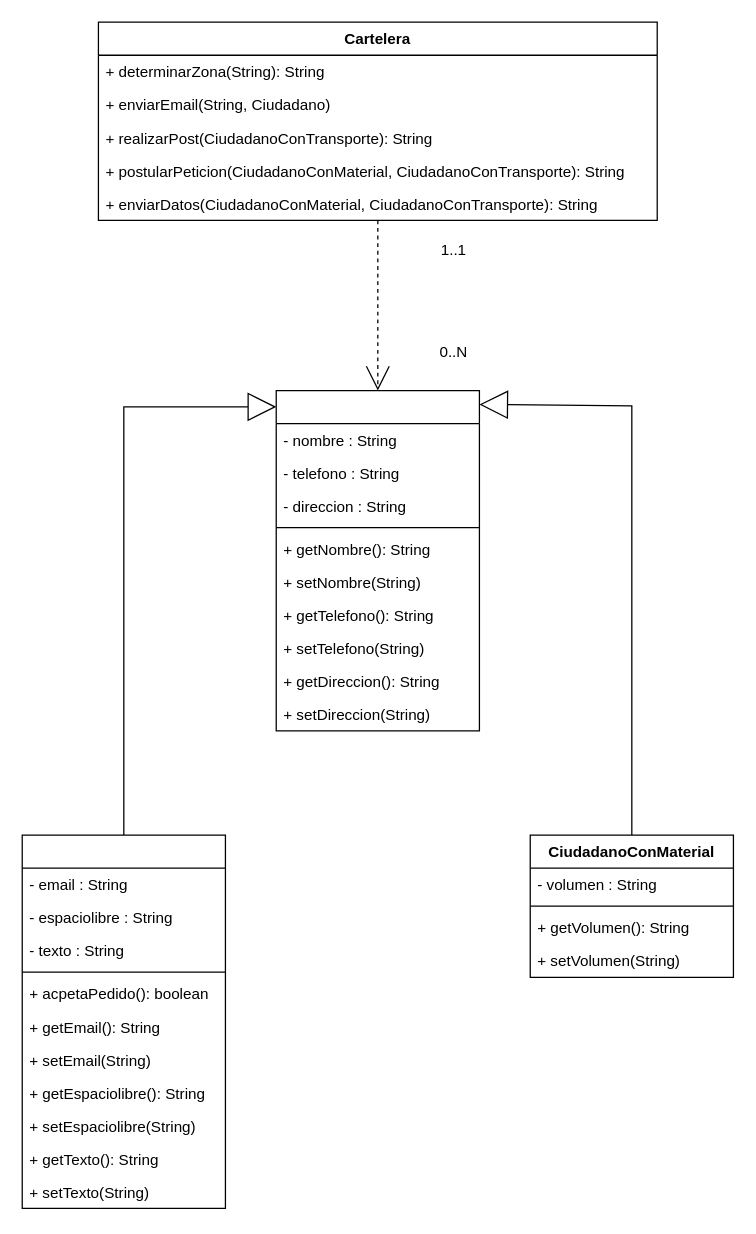
Image size: 756x1234. Some labels were removed from this diagram. The box of each missing label's shape, as (x1, y1, x2, y2) in pixels:
Ciudadano: (275, 389, 479, 731)
CiudadanoConTransporte: (21, 834, 225, 1208)
